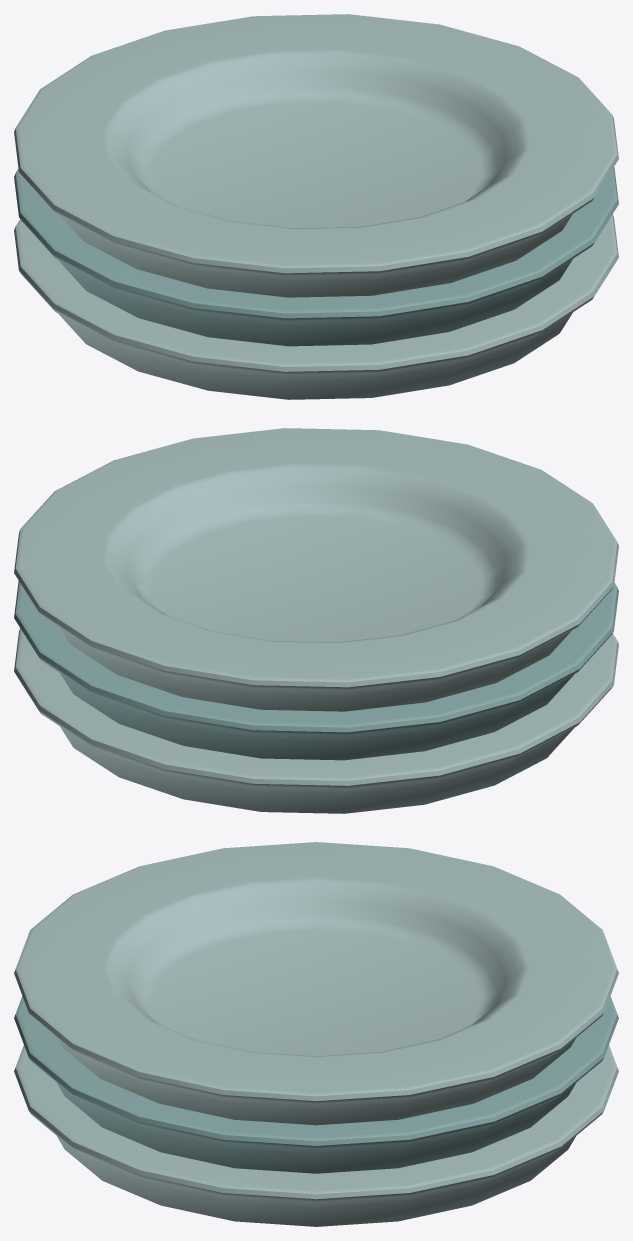
The model's file is plates1.fbx.
3 renders of one model, top to bottom at view 1: azimuth 30°, elevation 25°; view 2: azimuth 150°, elevation 25°; view 3: azimuth 270°, elevation 25°, orthographic.
Parts seen in each view (by area): view 1: group42_pasted__pCylinder8; view 2: group42_pasted__pCylinder8; view 3: group42_pasted__pCylinder8.
Boxes of the visible parts, bbox=[...] form: group42_pasted__pCylinder8: bbox=[14, 14, 618, 399]; group42_pasted__pCylinder8: bbox=[14, 428, 618, 813]; group42_pasted__pCylinder8: bbox=[14, 842, 618, 1226].
Bounding box in the file's own units: 5.29 × 1.5 × 5.29.
